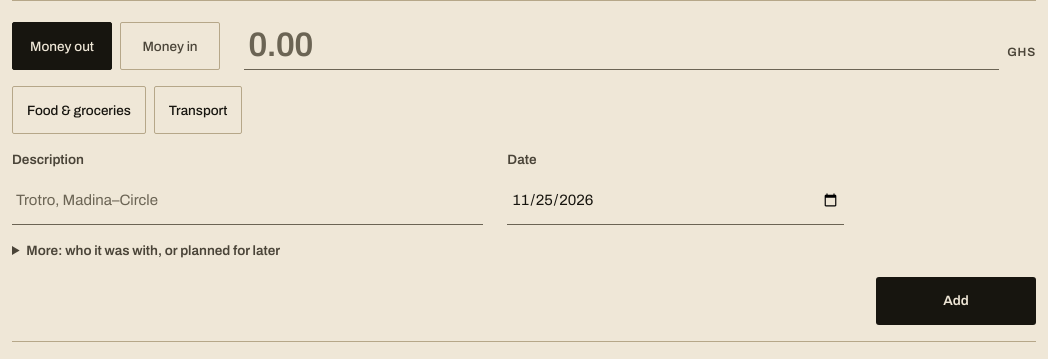
Test case: EntryForm › offers spending categories for money out and income ones for money in
This screenshot has width=1048, height=359.
Expected: the button "Salary" is not shown
Click the button "Transport": (198, 110) [154, 86, 242, 134]
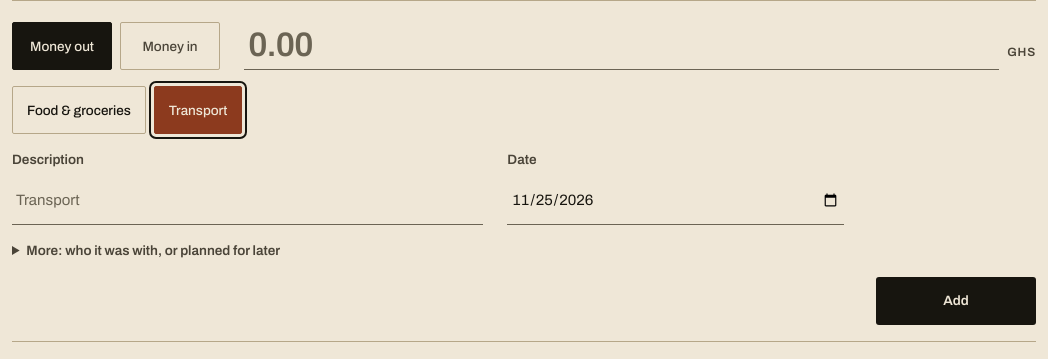
Click the text "Money in": (170, 46) [120, 22, 220, 70]
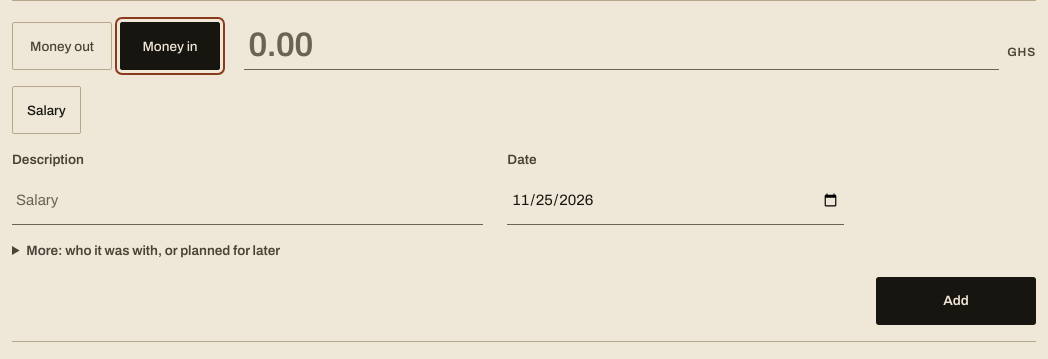
Expected: the button "Salary" is shown, [12, 86, 81, 134]
Expected: the button "Transport" is gone
